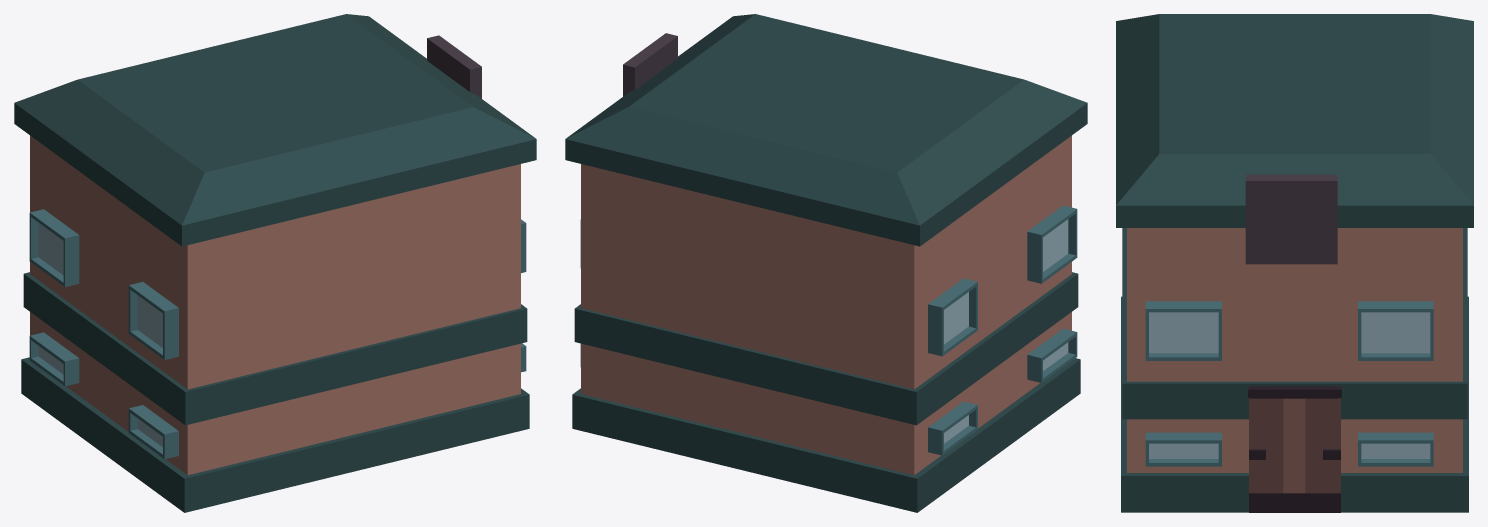
File: groceryshop.fbx
3 renders of one model, left to right at view 1: azimuth 30°, elevation 25°; view 2: azimuth 150°, elevation 25°; view 3: azimuth 270°, elevation 25°, orthographic. The views are drawn at different scales.
Parts seen in each view (by area): view 1: Plane, Tabela; view 2: Plane, Tabela; view 3: Plane, Cube, Tabela.
Part boxes in pixels (box(x1,y1,x2,y2)): Plane: box(14, 14, 536, 512); Tabela: box(427, 35, 481, 98); Plane: box(565, 14, 1087, 512); Tabela: box(623, 33, 677, 96); Plane: box(1116, 14, 1473, 512); Cube: box(1248, 386, 1341, 512); Tabela: box(1245, 174, 1337, 264).
Bounding box in the file's own units: 977 × 813 × 779.
Materials: 2 (2 with a texture image).
